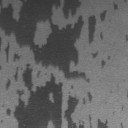red iron: (0, 0, 106, 82), (6, 64, 108, 128), (5, 42, 20, 62), (102, 56, 110, 68), (92, 52, 98, 58), (114, 2, 118, 10), (100, 32, 104, 40), (126, 34, 128, 41), (71, 85, 74, 89), (122, 106, 124, 110)
